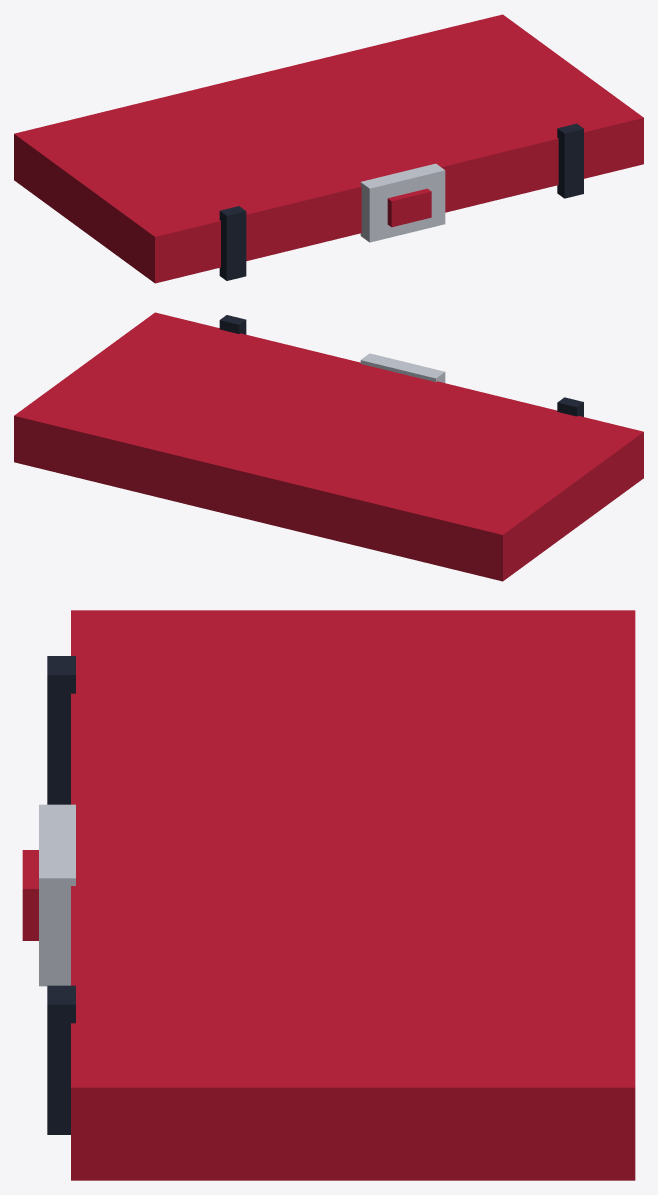
File: Cinturon.fbx
3 renders of one model, top to bottom at view 1: azimuth 30°, elevation 25°; view 2: azimuth 150°, elevation 25°; view 3: azimuth 270°, elevation 25°, orthographic. The views are drawn at different scales.
Visible parts, largest first — view 1: Cinturon, Cinturon_Hebilla, Cinturon_Presilla-0.19, Cinturon_Presilla0.19, Cinturon_Centro; view 2: Cinturon, Cinturon_Hebilla, Cinturon_Presilla0.19, Cinturon_Presilla-0.19; view 3: Cinturon, Cinturon_Hebilla, Cinturon_Presilla0.19, Cinturon_Presilla-0.19, Cinturon_Centro.
Boxes of the visible parts, box(x1,y1,x2,y2) form: Cinturon: box(14, 14, 643, 283); Cinturon_Hebilla: box(360, 163, 445, 242); Cinturon_Presilla-0.19: box(219, 206, 246, 280); Cinturon_Presilla0.19: box(557, 123, 583, 198); Cinturon_Centro: box(387, 188, 431, 227); Cinturon: box(14, 312, 643, 581); Cinturon_Hebilla: box(360, 353, 445, 382); Cinturon_Presilla0.19: box(219, 315, 246, 334); Cinturon_Presilla-0.19: box(557, 397, 583, 416); Cinturon: box(71, 610, 635, 1180); Cinturon_Hebilla: box(39, 804, 75, 986); Cinturon_Presilla0.19: box(47, 985, 75, 1134); Cinturon_Presilla-0.19: box(47, 656, 75, 804); Cinturon_Centro: box(22, 850, 38, 940).
Bounding box in the file's own units: 1.96 × 0.25 × 1.07.
